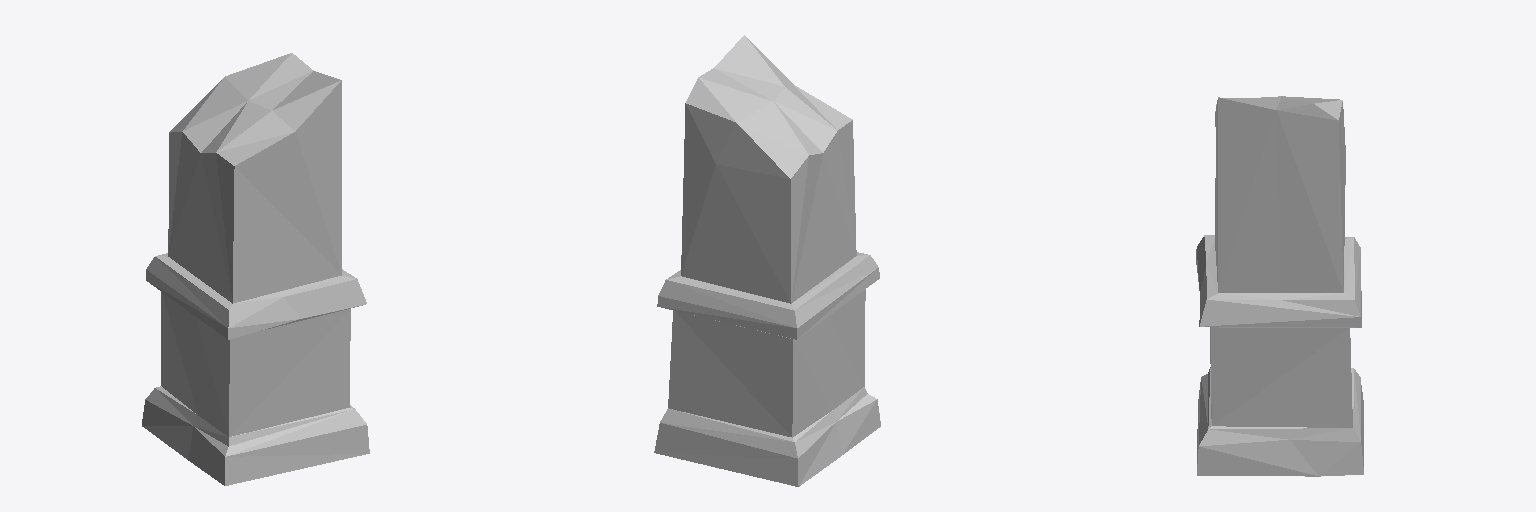
The model's file is pillar1.obj.
The picture shows the model from 3 angles: view 1: azimuth 30°, elevation 25°; view 2: azimuth 150°, elevation 25°; view 3: azimuth 270°, elevation 25°; orthographic projection.
Parts seen in each view (by area): view 1: Ruins3_Cube.032; view 2: Ruins3_Cube.032; view 3: Ruins3_Cube.032.
Boxes of the visible parts, <box> form: Ruins3_Cube.032: <box>142,53,369,485</box>; Ruins3_Cube.032: <box>654,35,880,486</box>; Ruins3_Cube.032: <box>1196,96,1363,476</box>.
Bounding box in the file's own units: 1.47 × 3.6 × 1.48.